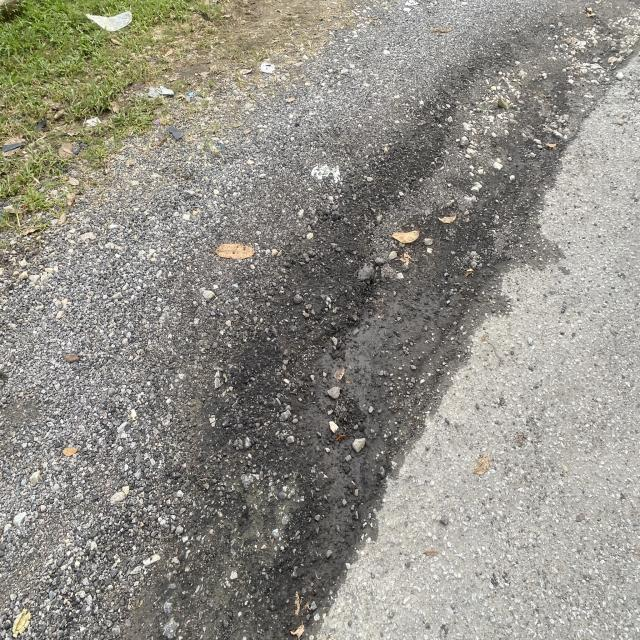Pothole: (234, 105, 460, 623)
